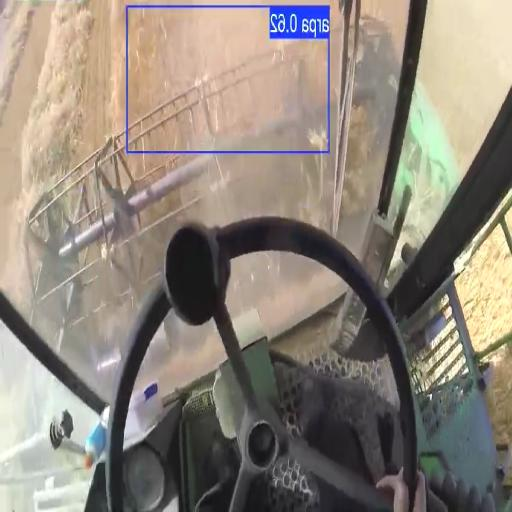arpa: (83, 0, 269, 140)
